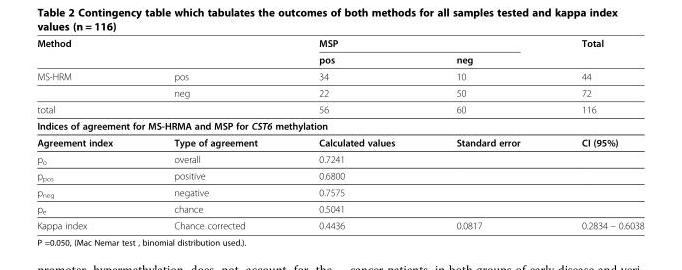table: (36, 37, 643, 230)
table column: (142, 37, 287, 230), (287, 37, 425, 230), (425, 37, 550, 230), (36, 37, 142, 230), (550, 37, 643, 230)
table column header: (36, 37, 643, 67)
table projected row header: (36, 117, 643, 133)
table row: (36, 67, 643, 84), (36, 100, 643, 117), (36, 133, 643, 150), (36, 150, 643, 167), (36, 167, 643, 184), (36, 200, 643, 217), (36, 51, 643, 67), (36, 84, 643, 100), (36, 117, 643, 133), (36, 184, 643, 200), (36, 37, 643, 51), (36, 217, 643, 230)
table spanning cell: (36, 100, 287, 117), (287, 37, 550, 51), (36, 37, 287, 51), (36, 67, 142, 100), (550, 37, 643, 67)
